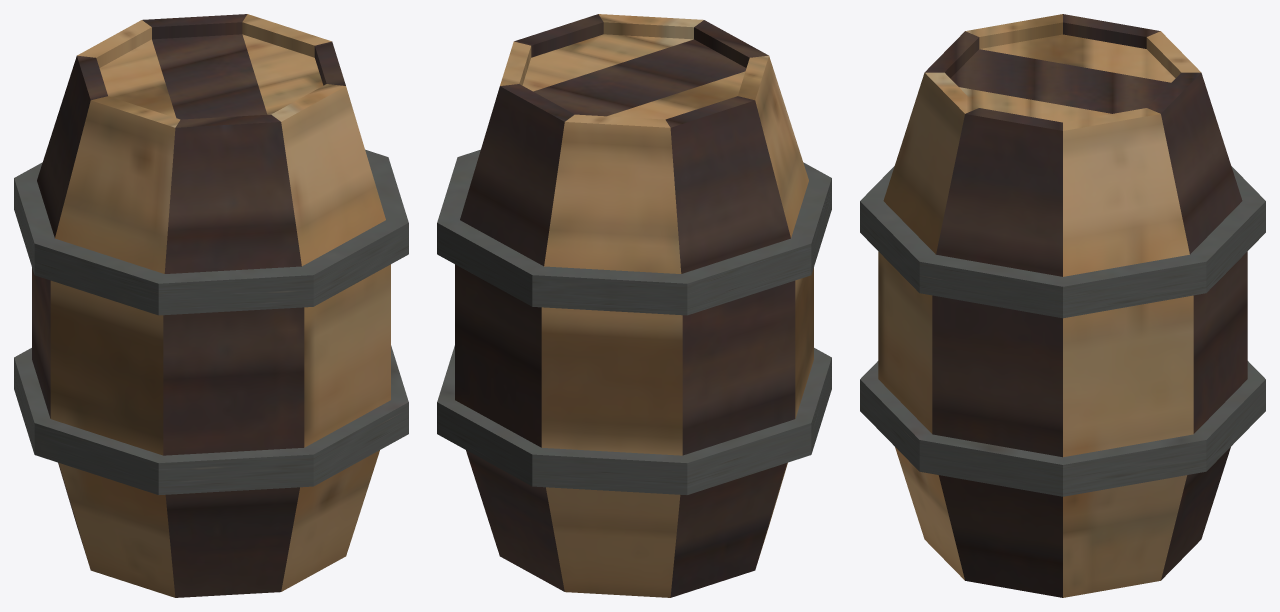
Rendered from Alchemy Assets Browser.fbx_Barrel.fbx.
3 renders of one model, left to right at view 1: azimuth 30°, elevation 25°; view 2: azimuth 150°, elevation 25°; view 3: azimuth 270°, elevation 25°, orthographic.
Visible parts, largest first — view 1: Barrel; view 2: Barrel; view 3: Barrel.
Boxes of the visible parts, <box> form: Barrel: <box>14,14,408,597</box>; Barrel: <box>437,14,831,597</box>; Barrel: <box>860,14,1265,597</box>.
Size of the model in its own units: 56 by 71.09 by 56.
